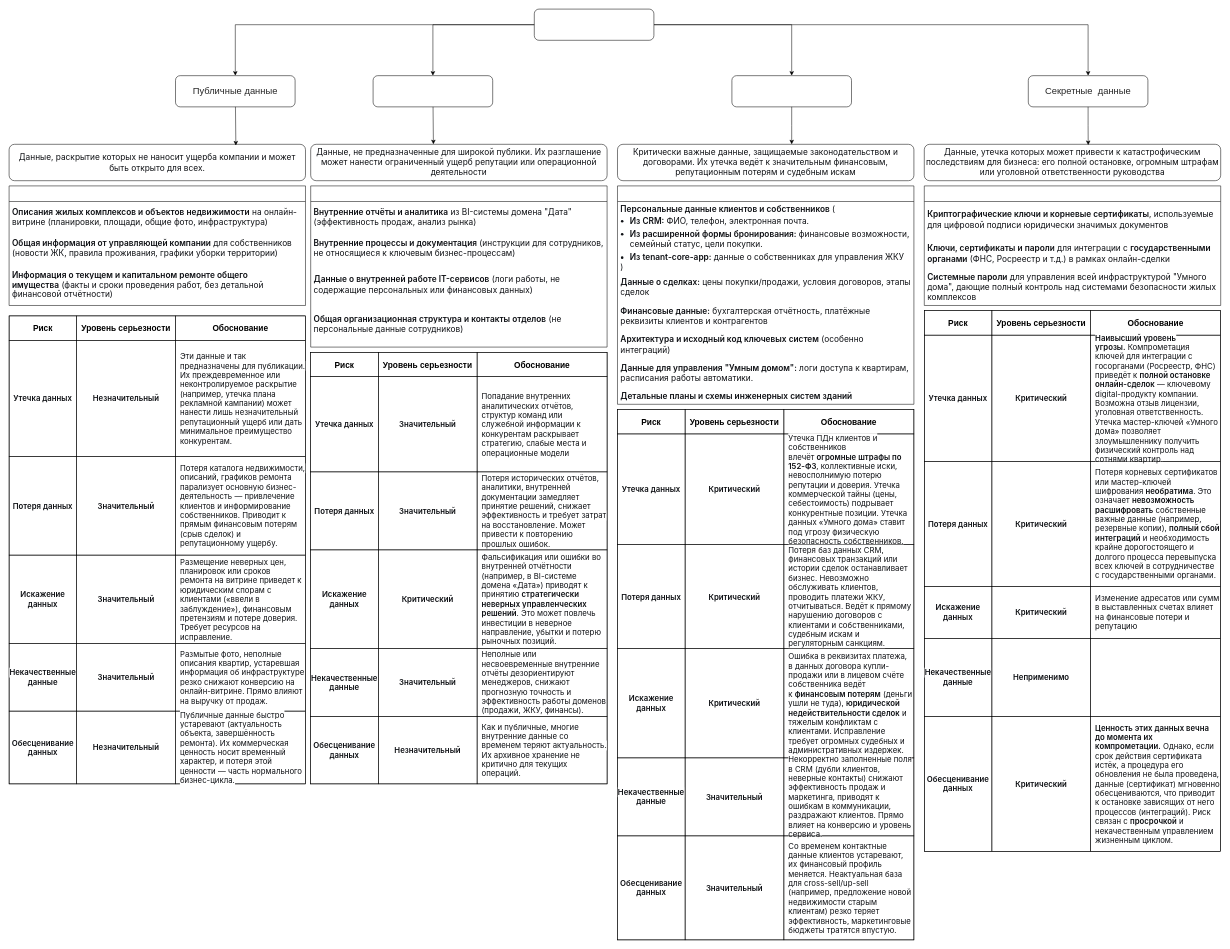
Some shapes in this 1230 by 949 pixel diagram are drawn without their labels. The shapes that lost their labels are listed below. From the top down, each one's centre as x and y in pixels, then its label:
At point 594,24: "Безопасность данных".
At point 433,91: "Внутренние данные".
At point 791,91: "Конфиденциальные данные".
